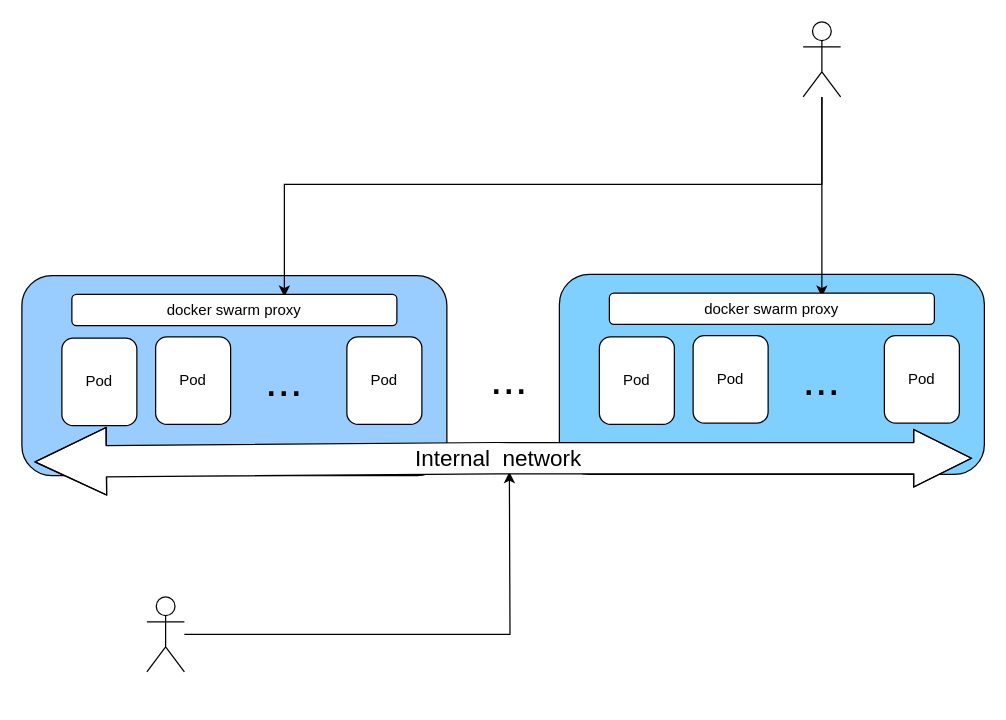
Image size: 1006x720. Some labels were removed from this diagram. The centre of each missing label's shape, as x and y in pixels:
"Developer" goes at pixel 165 634.
"Users" goes at pixel 821 59.
